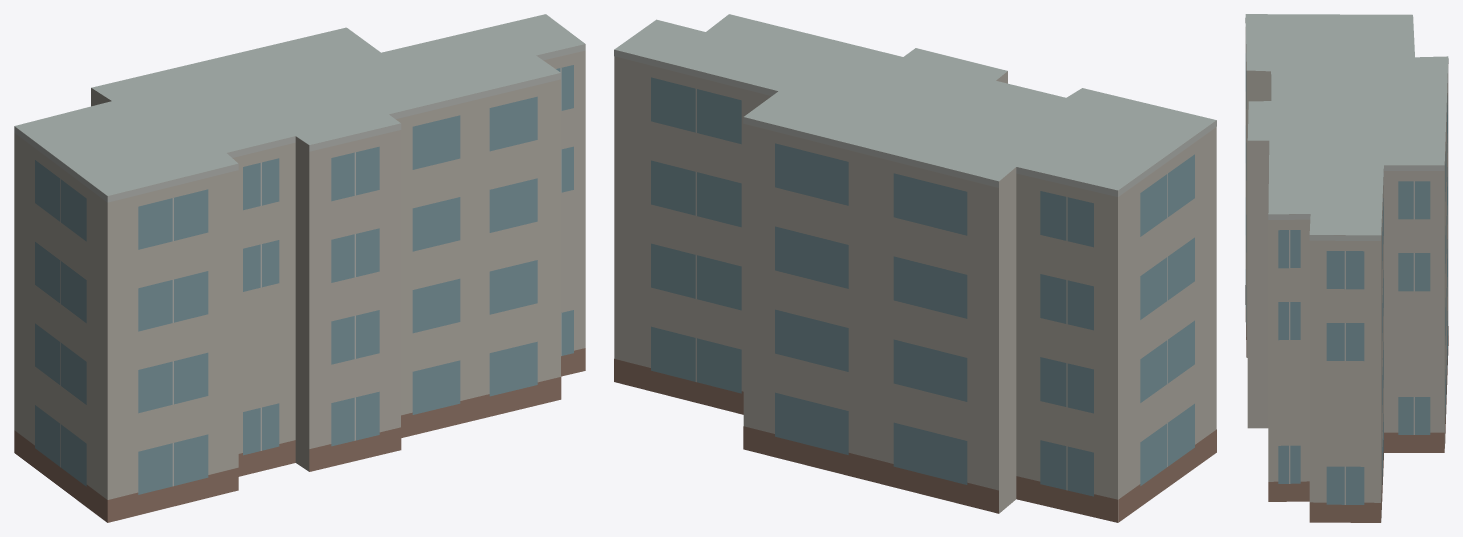
File: survey-upis-32798599.glb
The picture shows the model from 3 angles, left to right: view 1: azimuth 30°, elevation 25°; view 2: azimuth 150°, elevation 25°; view 3: azimuth 270°, elevation 25°; orthographic projection. The views are drawn at different scales.
Visible parts, largest first — view 1: survey-upis-32798599.tmp; view 2: survey-upis-32798599.tmp; view 3: survey-upis-32798599.tmp.
Part boxes in pixels (x1,y1,x2,y2): survey-upis-32798599.tmp: (14, 14, 585, 522); survey-upis-32798599.tmp: (614, 14, 1216, 522); survey-upis-32798599.tmp: (1245, 14, 1448, 522).
Bounding box in the file's own units: 20.14 × 12.2 × 7.81.
